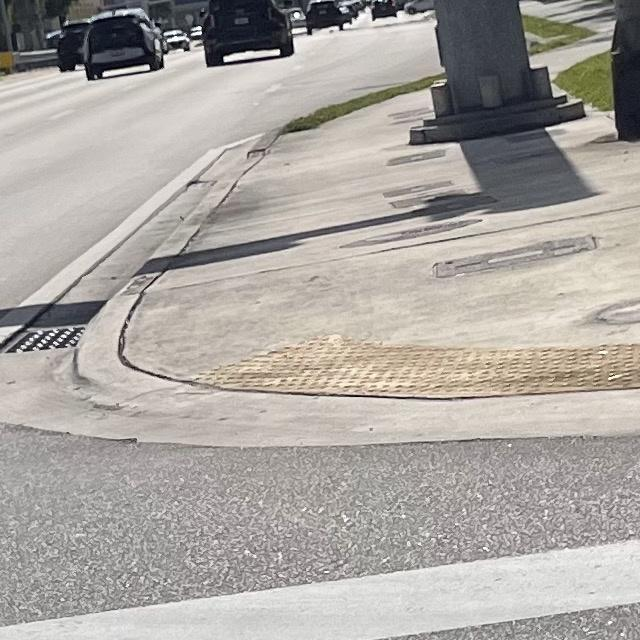curb: (151, 128, 280, 269), (72, 273, 184, 398)
